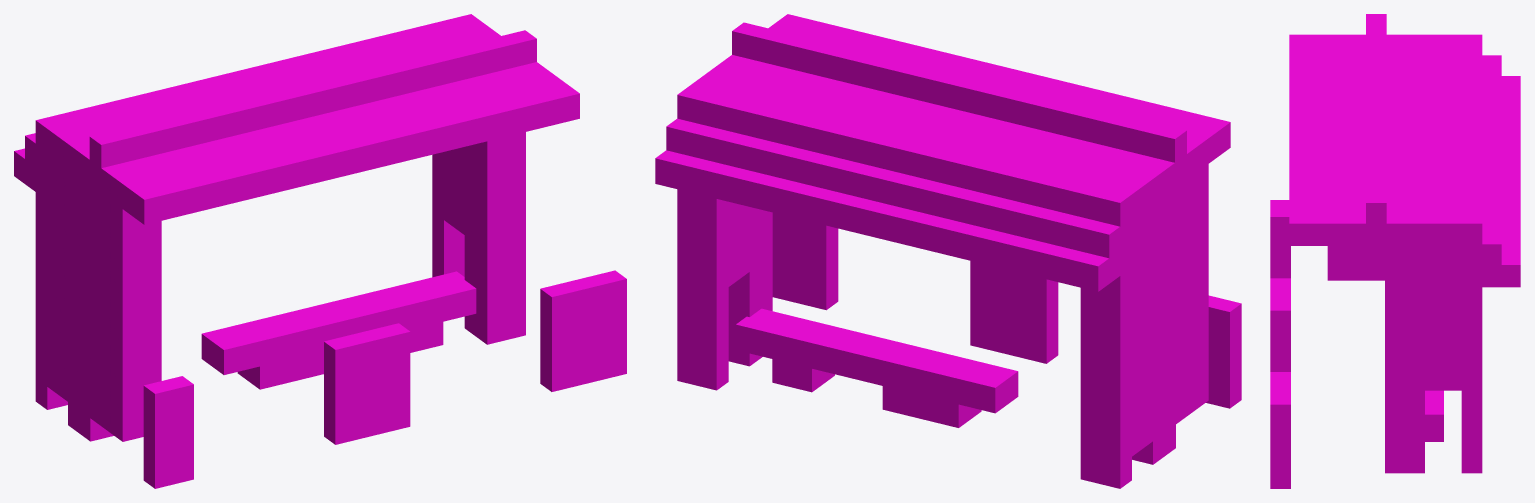
Rendered from standard_bus_stop.glb.
3 renders of one model, left to right at view 1: azimuth 30°, elevation 25°; view 2: azimuth 150°, elevation 25°; view 3: azimuth 270°, elevation 25°, orthographic. The views are drawn at different scales.
Visible parts, largest first — view 1: col_roof_87, col_block_78, col_block_72, col_roof_198, col_block_28, col_block_73, col_roof_107, col_roof_137, col_block_74, col_roof_127, col_block_79, col_roof_147 (+68 smaller); view 2: col_roof_01, col_block_27, col_roof_198, col_roof_78, col_roof_38, col_roof_15, col_roof_21, col_roof_17, col_block_41, col_roof_108, col_roof_188, col_block_37 (+83 smaller); view 3: col_roof_188, col_roof_189, col_roof_190, col_roof_197, col_roof_31, col_roof_195, col_roof_191, col_roof_192, col_roof_196, col_roof_72, col_block_74, col_block_72 (+198 smaller).
Boxes of the visible parts, x1,y1,x2,y2 form: col_roof_87: [132, 182, 183, 224]; col_block_78: [540, 280, 590, 322]; col_block_72: [143, 376, 193, 418]; col_roof_198: [89, 127, 140, 168]; col_block_28: [212, 333, 262, 374]; col_block_73: [324, 332, 373, 374]; col_roof_107: [205, 164, 255, 206]; col_roof_137: [315, 139, 363, 180]; col_block_74: [360, 323, 410, 365]; col_roof_127: [279, 147, 327, 189]; col_block_79: [577, 270, 626, 312]; col_roof_147: [351, 129, 399, 171]; col_roof_01: [1058, 248, 1109, 291]; col_block_27: [956, 369, 1006, 413]; col_roof_198: [1135, 121, 1186, 164]; col_roof_78: [1080, 185, 1131, 226]; col_roof_38: [1069, 217, 1120, 259]; col_roof_15: [948, 222, 998, 264]; col_roof_21: [838, 195, 886, 237]; col_roof_17: [912, 213, 959, 255]; col_block_41: [735, 316, 785, 358]; col_roof_108: [970, 158, 1021, 199]; col_roof_188: [677, 86, 727, 127]; col_block_37: [809, 334, 859, 376]; col_roof_188: [1461, 206, 1482, 245]; col_roof_189: [1442, 206, 1463, 245]; col_roof_190: [1423, 206, 1443, 245]; col_roof_197: [1289, 206, 1309, 245]; col_roof_31: [1500, 248, 1520, 287]; col_roof_195: [1327, 206, 1348, 245]; col_roof_191: [1404, 206, 1424, 245]; col_roof_192: [1385, 206, 1405, 245]; col_roof_196: [1308, 206, 1329, 245]; col_roof_72: [1481, 227, 1501, 266]; col_block_74: [1270, 294, 1290, 331]; col_block_72: [1270, 200, 1289, 239].
Size of the model in its own units: 5.28 by 3.26 by 2.73.
